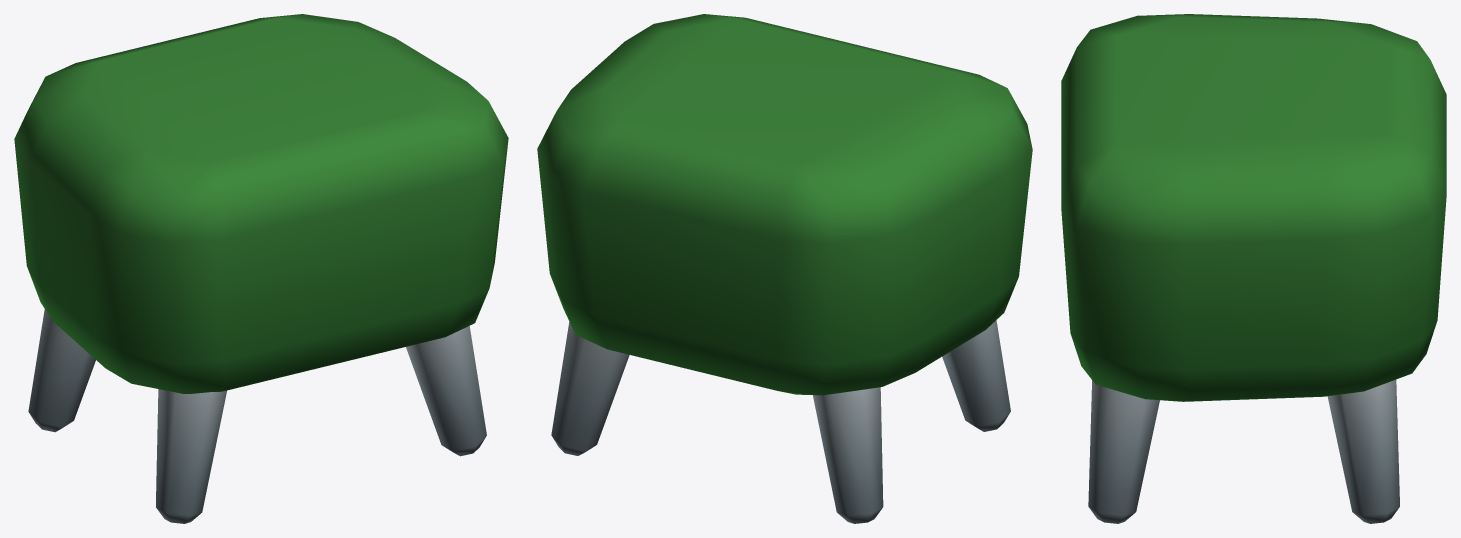
The model's file is Furniture_Chair_1.fbx.
3 views of the same model, side by side, from view 1: azimuth 30°, elevation 25°; view 2: azimuth 150°, elevation 25°; view 3: azimuth 270°, elevation 25° (orthographic). The views are drawn at different scales.
Parts seen in each view (by area): view 1: Furniture_Chair_1; view 2: Furniture_Chair_1; view 3: Furniture_Chair_1.
Boxes of the visible parts, x1,y1,x2,y2 form: Furniture_Chair_1: [14, 14, 508, 523]; Furniture_Chair_1: [537, 14, 1032, 523]; Furniture_Chair_1: [1061, 14, 1446, 523].
Bounding box in the file's own units: 60.15 × 50.57 × 48.98.
